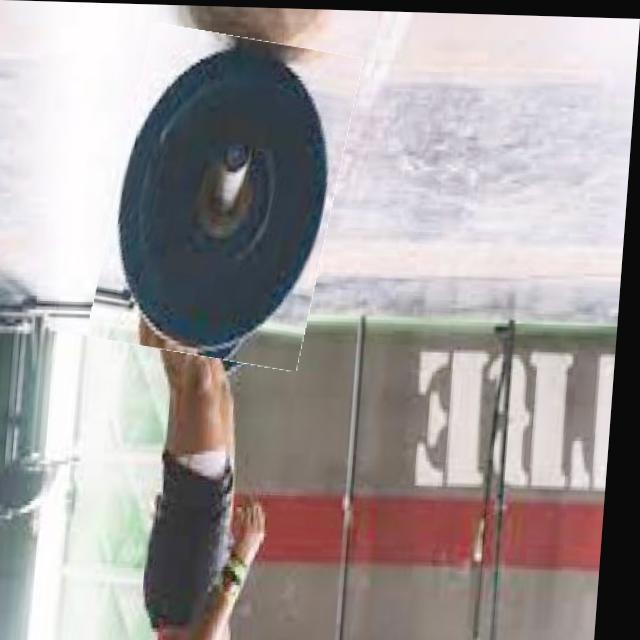barbell: (101, 28, 356, 365)
